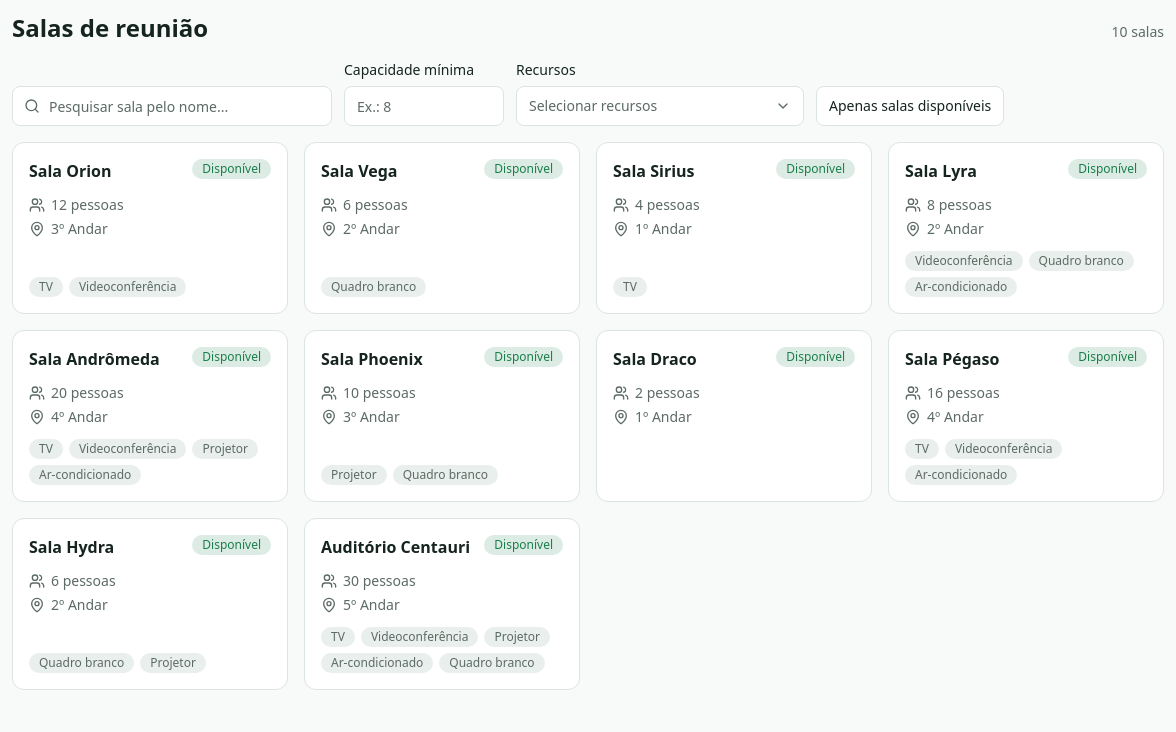
Test: Home (rooms listing) › filters by people count typed in the capacity input
The image size is (1176, 732).
Expected: the heading "Sala Orion" is shown, [29,159,112,183]
In the number field labelled "Capacidade mínima": x=424, y=106 [344,86,504,126], type "16"
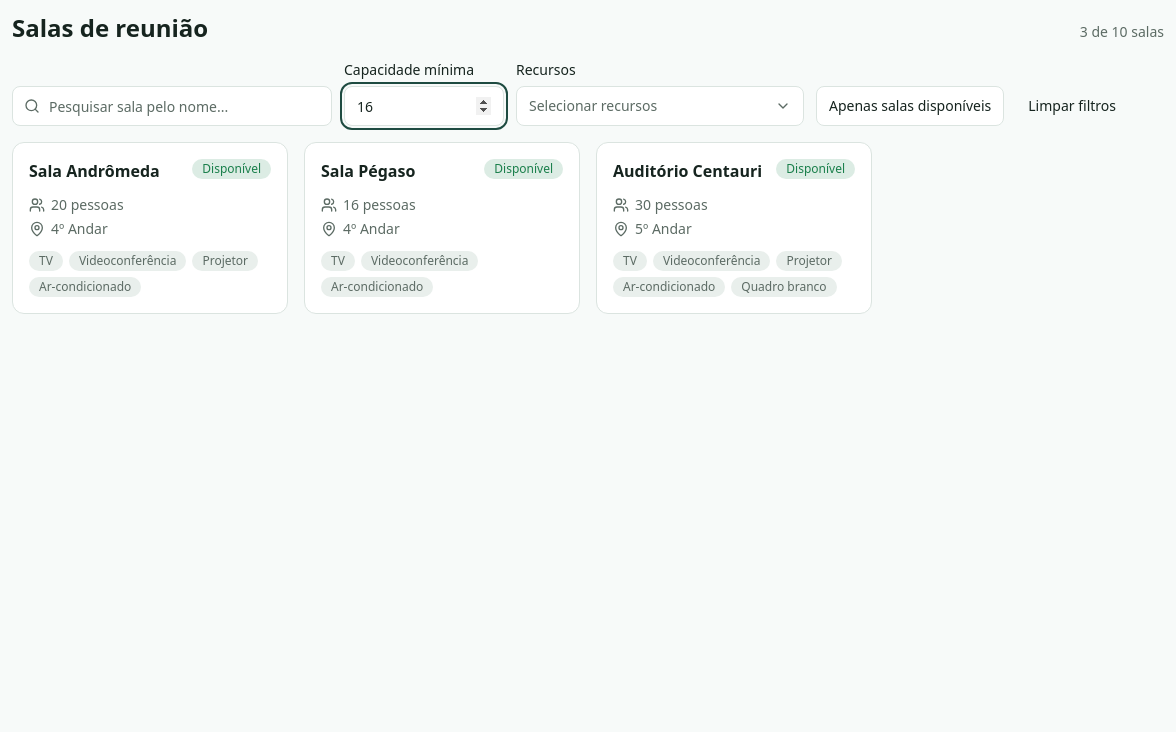
Now the text "3 de 10 salas" is shown, box [1080,22,1164,42]
Now the link "Sala Vega" is gone
